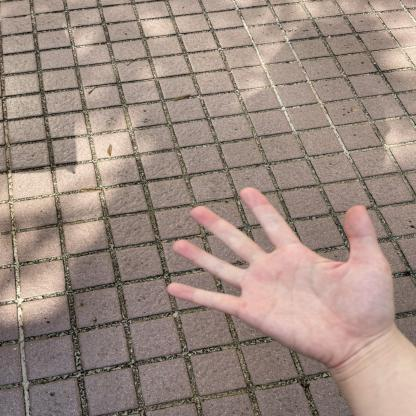bare_hand: (156, 180, 408, 376)
